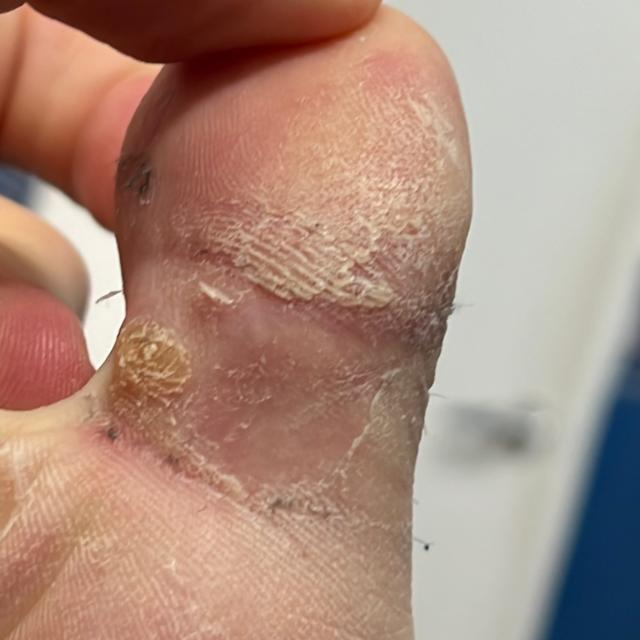Eczema: (111, 68, 434, 570)
